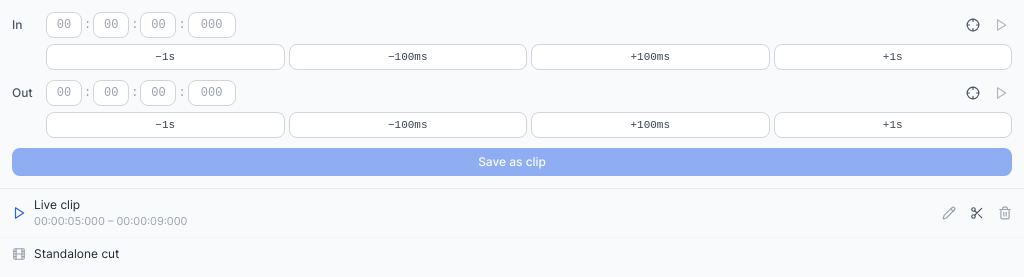
Test: ClipEditor, deleting a clip › asks before deleting a live clip, then removes it from the list and the grid
This screenshot has width=1024, height=277.
Click the button named "Delete this clip".
click(1005, 213)  # box 998,206 -> 1012,220
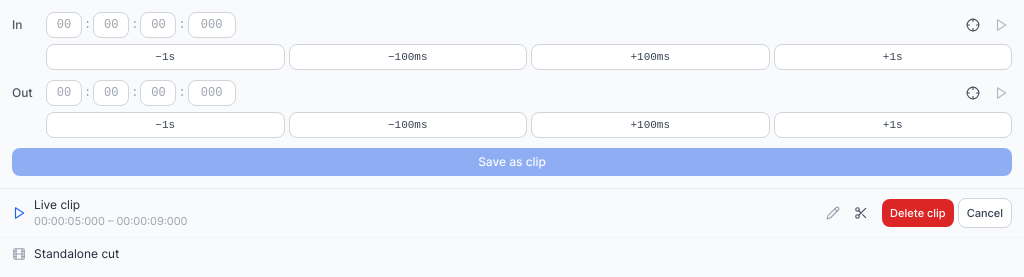
Click the button "Delete clip".
click(918, 213)  # box 882,199 -> 954,227
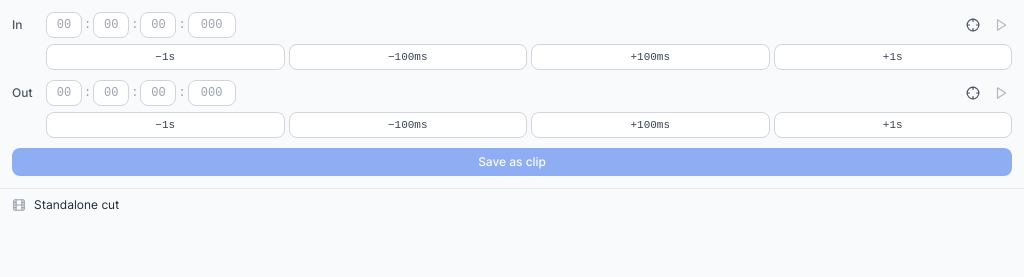
Expected: the link "Standalone cut" is shown, 34,197 -> 120,212
Expected: the link "Live clip" is gone
